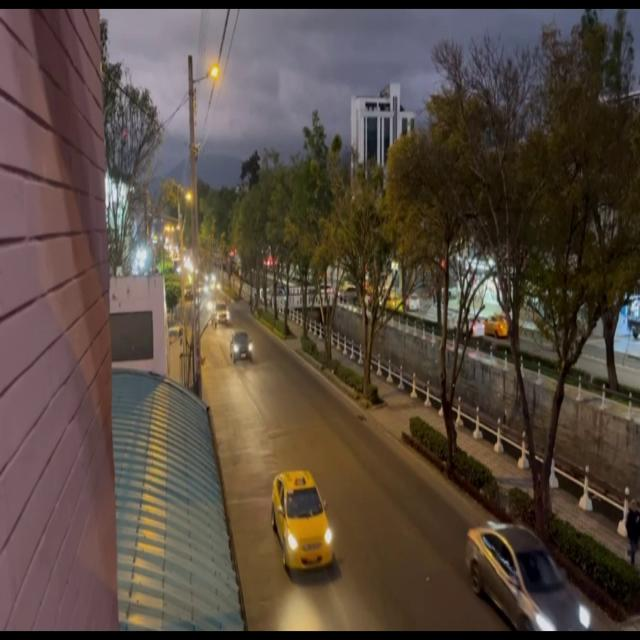CMT: (469, 524, 584, 634)
SED: (274, 478, 330, 574), (232, 332, 252, 361)
